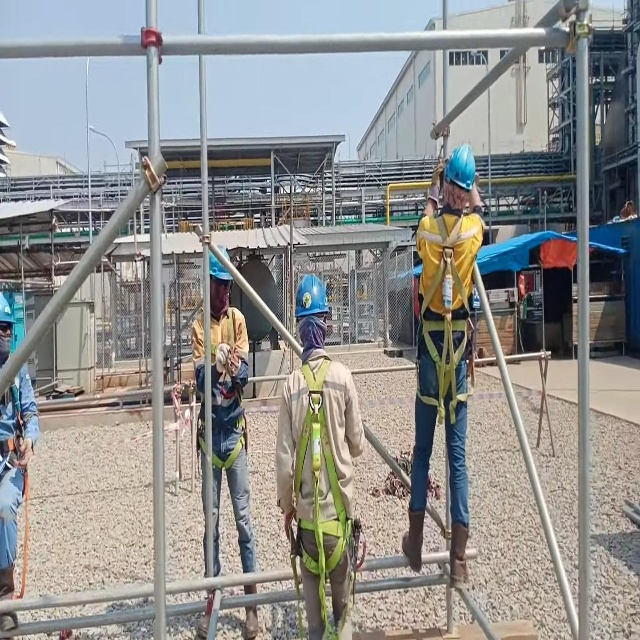Arnes_seguridad: (287, 358, 362, 640), (412, 207, 478, 428), (195, 305, 246, 467)
